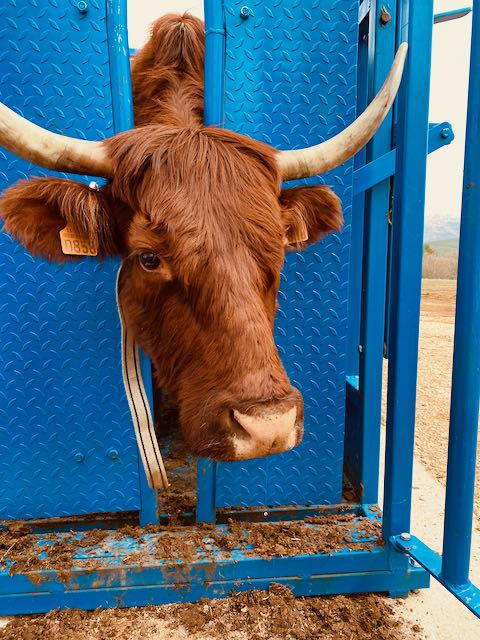muzzles: (213, 398, 308, 463)
